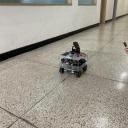cart: (58, 52, 88, 78)
